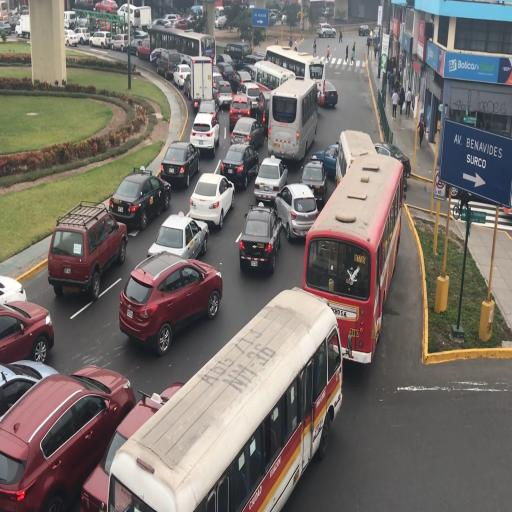auto: (1, 365, 134, 510), (119, 252, 222, 352), (48, 202, 127, 300), (108, 166, 170, 231), (0, 298, 54, 369), (0, 356, 60, 418), (148, 210, 209, 261), (238, 204, 281, 274), (189, 172, 233, 228), (274, 182, 316, 240), (160, 141, 200, 190), (219, 141, 258, 190), (253, 154, 288, 204), (378, 140, 414, 184), (299, 157, 328, 208), (229, 116, 264, 156), (189, 114, 219, 159), (182, 68, 214, 101), (311, 142, 338, 181), (229, 95, 257, 131), (0, 273, 26, 306), (195, 96, 219, 130), (156, 47, 181, 79), (221, 66, 243, 93), (214, 79, 233, 110), (239, 80, 262, 103), (214, 53, 236, 77), (173, 63, 191, 89), (234, 69, 254, 92), (89, 30, 111, 49), (110, 32, 130, 52), (136, 37, 152, 61), (241, 54, 262, 71), (72, 26, 91, 44), (149, 47, 167, 66), (95, 0, 118, 14), (316, 23, 336, 38), (64, 27, 79, 46), (150, 18, 170, 31), (75, 12, 89, 30), (172, 17, 190, 30), (7, 11, 20, 29), (162, 13, 181, 24), (212, 64, 222, 83), (0, 20, 11, 37), (216, 15, 227, 29), (183, 13, 197, 24), (359, 24, 370, 36), (253, 52, 266, 62), (268, 12, 277, 25), (19, 4, 29, 14), (281, 14, 287, 24)
bus: (109, 295, 328, 507), (305, 142, 400, 356), (267, 75, 316, 163), (270, 44, 330, 110), (248, 58, 293, 124), (337, 128, 376, 190), (15, 14, 30, 38), (0, 0, 9, 23)
camion: (125, 6, 152, 30), (64, 10, 76, 30)
